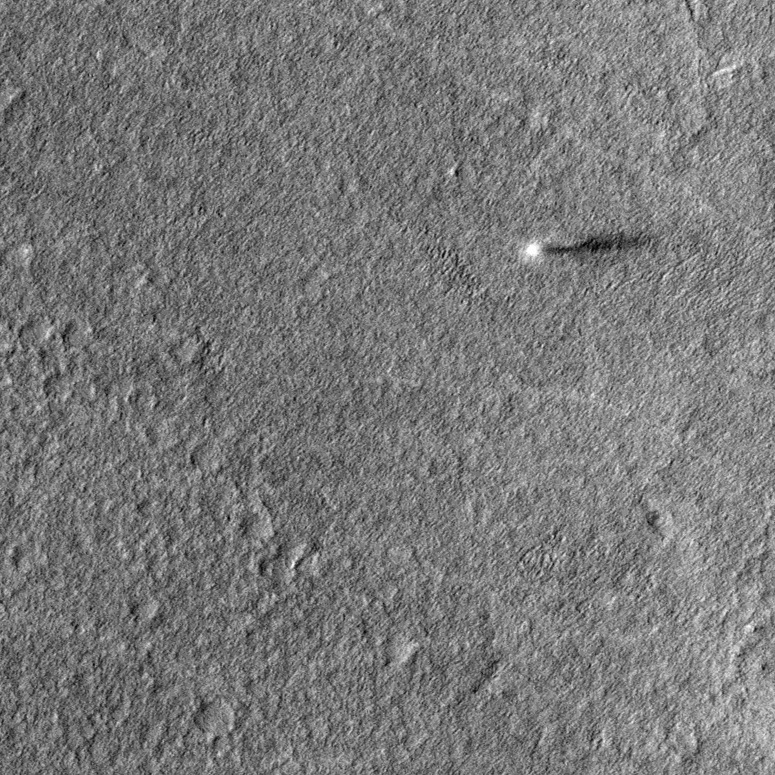dust_devil: (521, 230, 650, 262)
